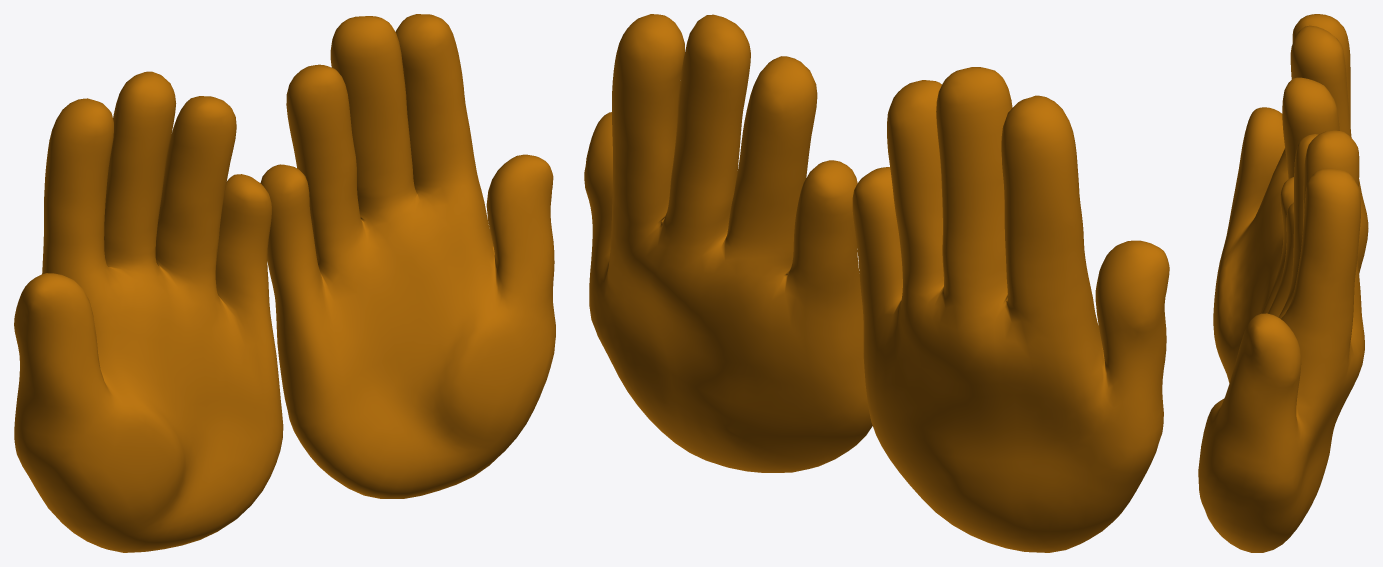
Rendered from Palms Up Together.FBX.
The picture shows the model from 3 angles, left to right: view 1: azimuth 30°, elevation 25°; view 2: azimuth 150°, elevation 25°; view 3: azimuth 270°, elevation 25°; orthographic projection. The views are drawn at different scales.
Parts seen in each view (by area): view 1: Group002, Group003; view 2: Group003, Group002; view 3: Group002, Group003.
Part boxes in pixels (x1,y1,x2,y2): Group002: (260,14,555,498); Group003: (14,71,283,552); Group003: (852,67,1169,552); Group002: (584,14,872,472); Group002: (1198,130,1364,552); Group003: (1213,14,1368,383).
Size of the model in its own units: 18.4 by 15.07 by 5.74.
